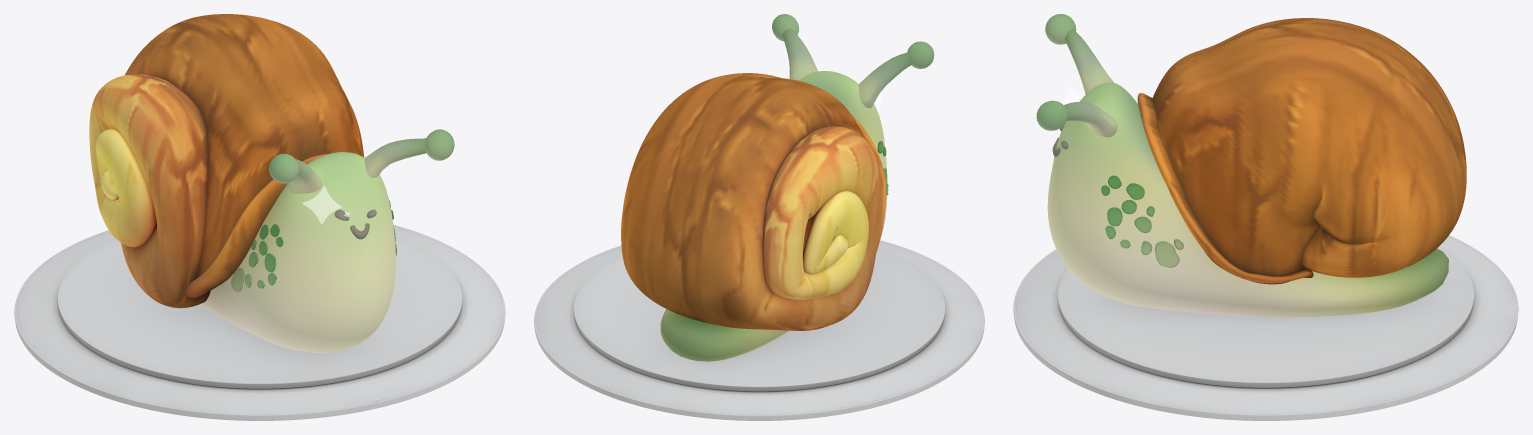
Rendered from smug_snail.glb.
3 views of the same model, side by side, from view 1: azimuth 30°, elevation 25°; view 2: azimuth 150°, elevation 25°; view 3: azimuth 270°, elevation 25° (orthographic). The views are drawn at different scales.
Visible parts, largest first — view 1: Object_2, Object_4, Object_3, Object_5, Object_6; view 2: Object_4, Object_2, Object_3, Object_5; view 3: Object_4, Object_2, Object_3.
Boxes of the visible parts, x1,y1,x2,y2 form: Object_2: (14, 225, 505, 420); Object_4: (89, 14, 364, 308); Object_3: (200, 129, 454, 352); Object_5: (91, 98, 186, 247); Object_6: (302, 186, 349, 223); Object_4: (621, 73, 886, 330); Object_2: (534, 240, 984, 420); Object_3: (660, 14, 934, 361); Object_5: (764, 147, 882, 299); Object_4: (1137, 18, 1466, 284); Object_2: (1013, 235, 1518, 420); Object_3: (1036, 14, 1448, 317).
Size of the model in its own units: 247 by 155 by 247.
